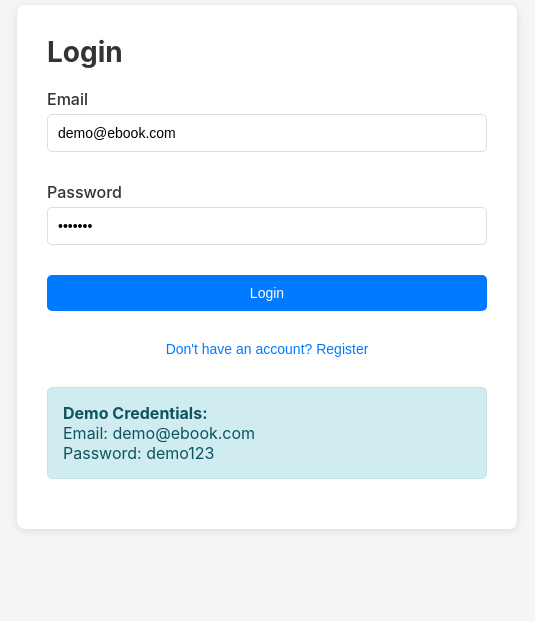
Test: Login Component › displays error on failed login
Replace the text in the field labelled "Email" with "wrong@email.com": (267, 133) [47,114,487,152]
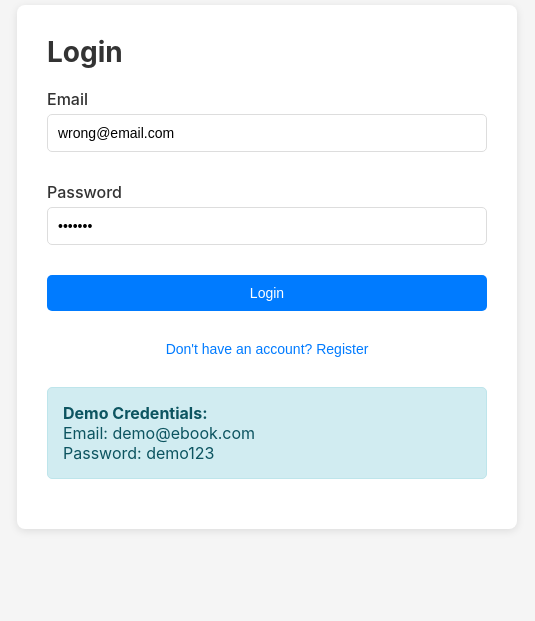
In the password field labelled "Password": (267, 226) [47,207,487,245], type "wrongpass"
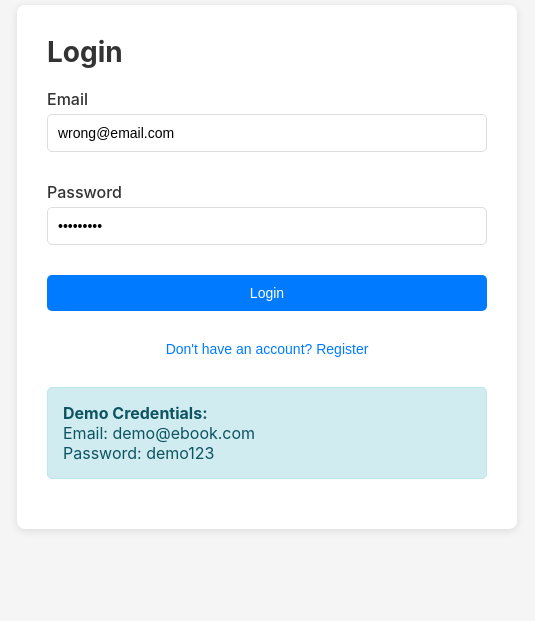
Click the button "Login": (267, 293) [47,275,487,311]
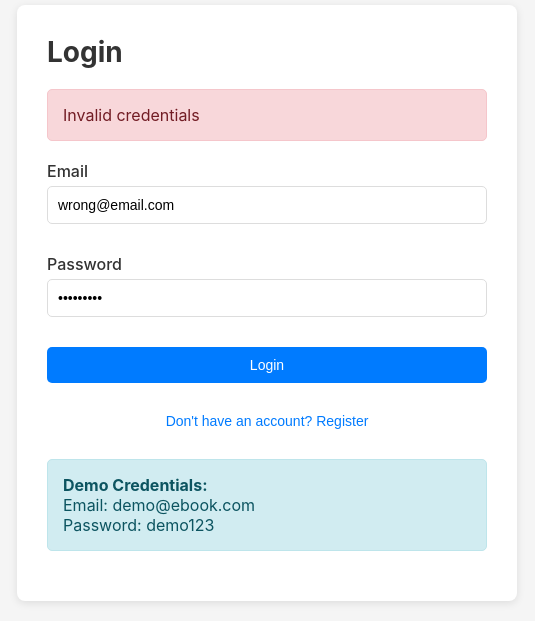
Now the text "Invalid credentials" is shown, box [47,89,487,141]
